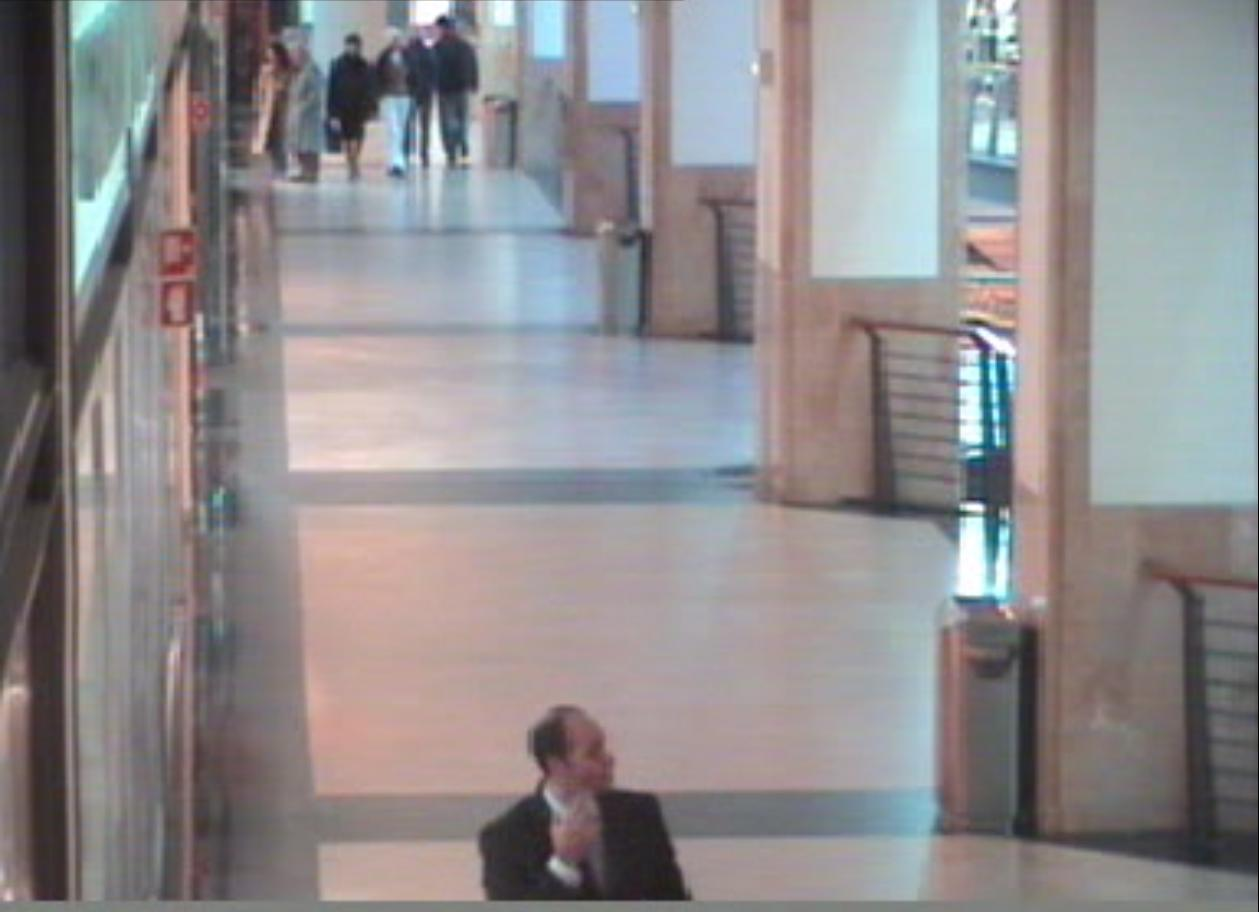person: (475, 698, 689, 902), (423, 12, 489, 172), (369, 24, 425, 183), (323, 26, 378, 187), (283, 34, 330, 188)
